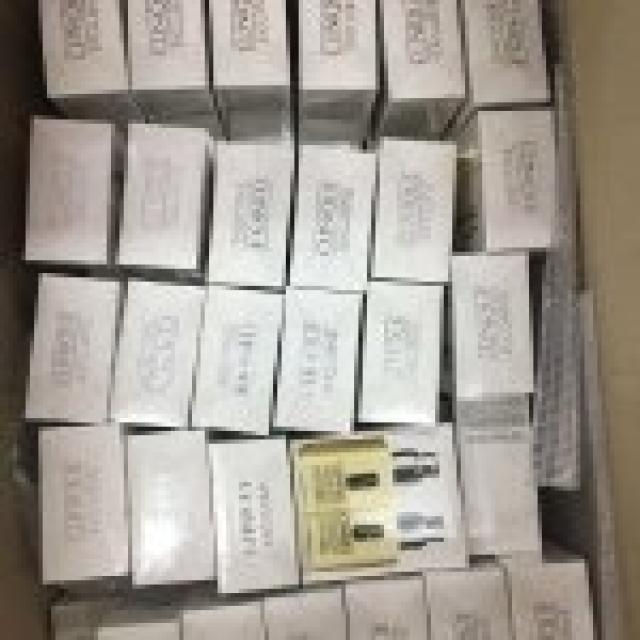box: (22, 115, 129, 275), (454, 112, 562, 256), (24, 275, 125, 423), (120, 124, 215, 281), (453, 395, 544, 558), (38, 2, 152, 132), (39, 425, 132, 583), (293, 432, 391, 581), (125, 3, 229, 142), (450, 1, 555, 138), (443, 251, 537, 402), (190, 283, 285, 432), (127, 429, 217, 585), (109, 281, 206, 425), (213, 437, 301, 594), (382, 425, 470, 574), (368, 141, 459, 283), (208, 142, 298, 285), (270, 291, 360, 434), (207, 2, 296, 145), (357, 283, 446, 426), (290, 146, 377, 290), (297, 1, 379, 151), (377, 2, 466, 139), (499, 531, 593, 636), (424, 559, 512, 636), (344, 575, 427, 636), (183, 579, 265, 636), (94, 586, 181, 636), (263, 585, 346, 636), (51, 578, 123, 636)
